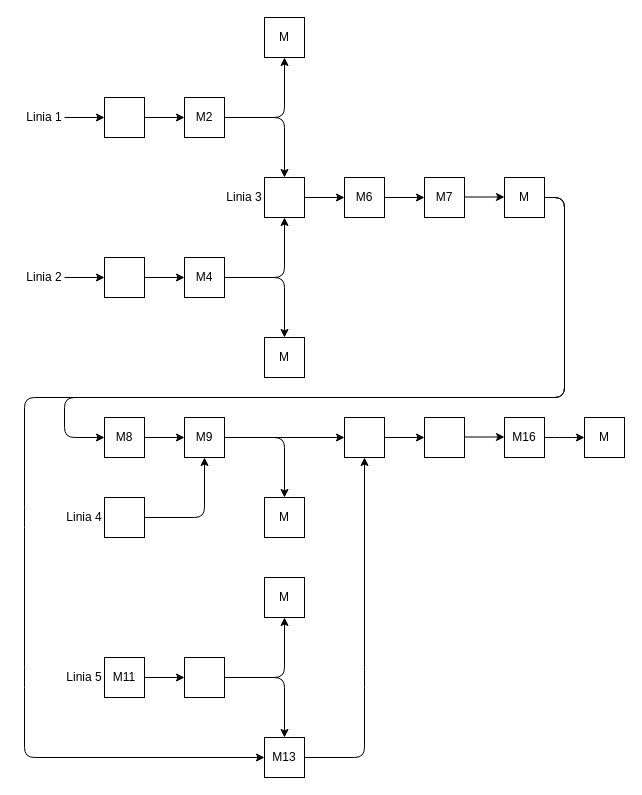
The diagram is 642 pixels wide and 795 high, and some of its shapes have lost their labels. Each missing label, with the box of its shape:
M1: (104, 96, 144, 138)
M10: (104, 496, 144, 538)
M12: (184, 656, 224, 698)
M14: (344, 416, 384, 458)
M15: (424, 416, 464, 458)
M3: (104, 256, 144, 298)
M5: (264, 176, 304, 218)
